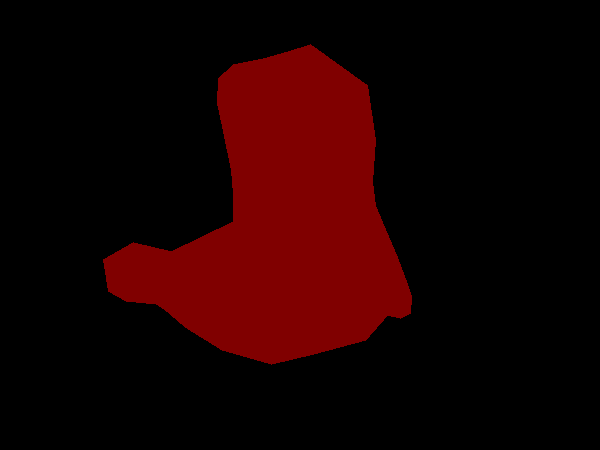fire: (103, 44, 411, 364)
